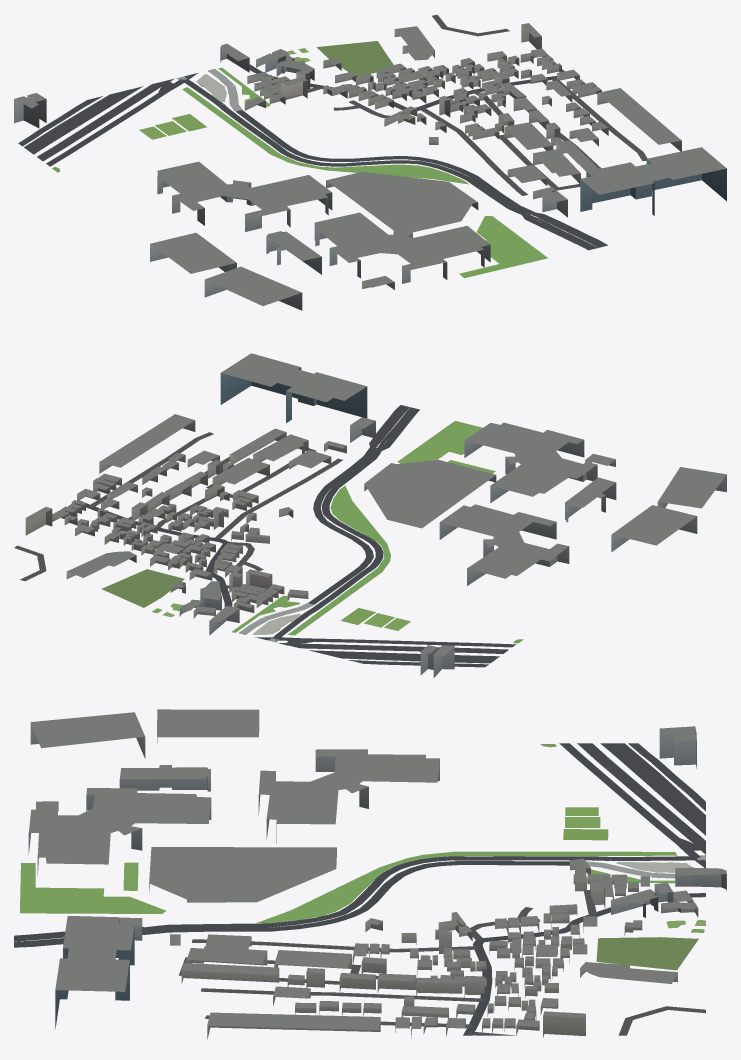
3 views of the same model, one above another, from view 1: azimuth 30°, elevation 25°; view 2: azimuth 150°, elevation 25°; view 3: azimuth 270°, elevation 25° (orthographic). The views are drawn at different scales.
Parts seen in each view (by area): view 1: building, ground; view 2: building, ground; view 3: building, ground.
Boxes of the visible parts, x1,y1,x2,y2 form: building: (14, 23, 726, 310); ground: (18, 14, 647, 278); building: (25, 353, 726, 677); ground: (14, 405, 523, 667); building: (28, 709, 726, 1039); ground: (14, 743, 705, 1035).
Size of the model in its own units: 536 by 32.6 by 515.
